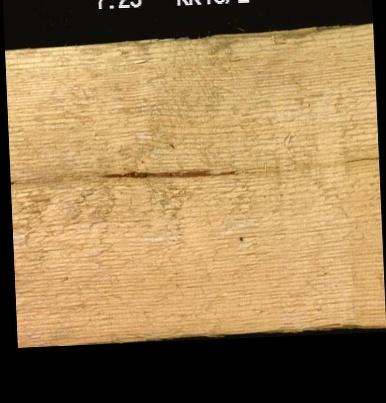split: (333, 142, 378, 167)
